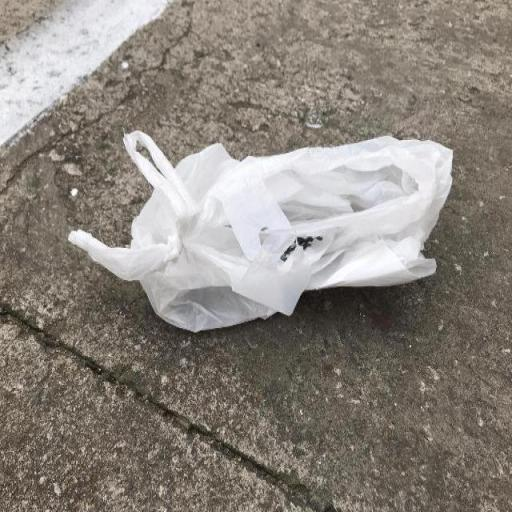plastic-bag: (59, 125, 459, 333)
